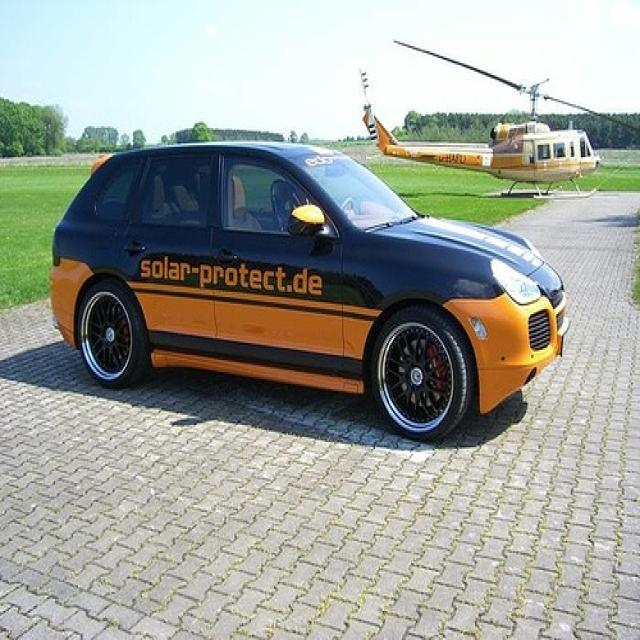car: (50, 138, 571, 444)
